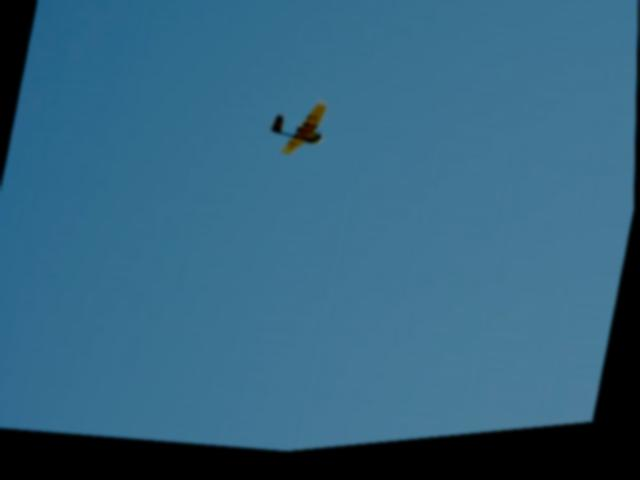iha: (258, 94, 340, 174)
